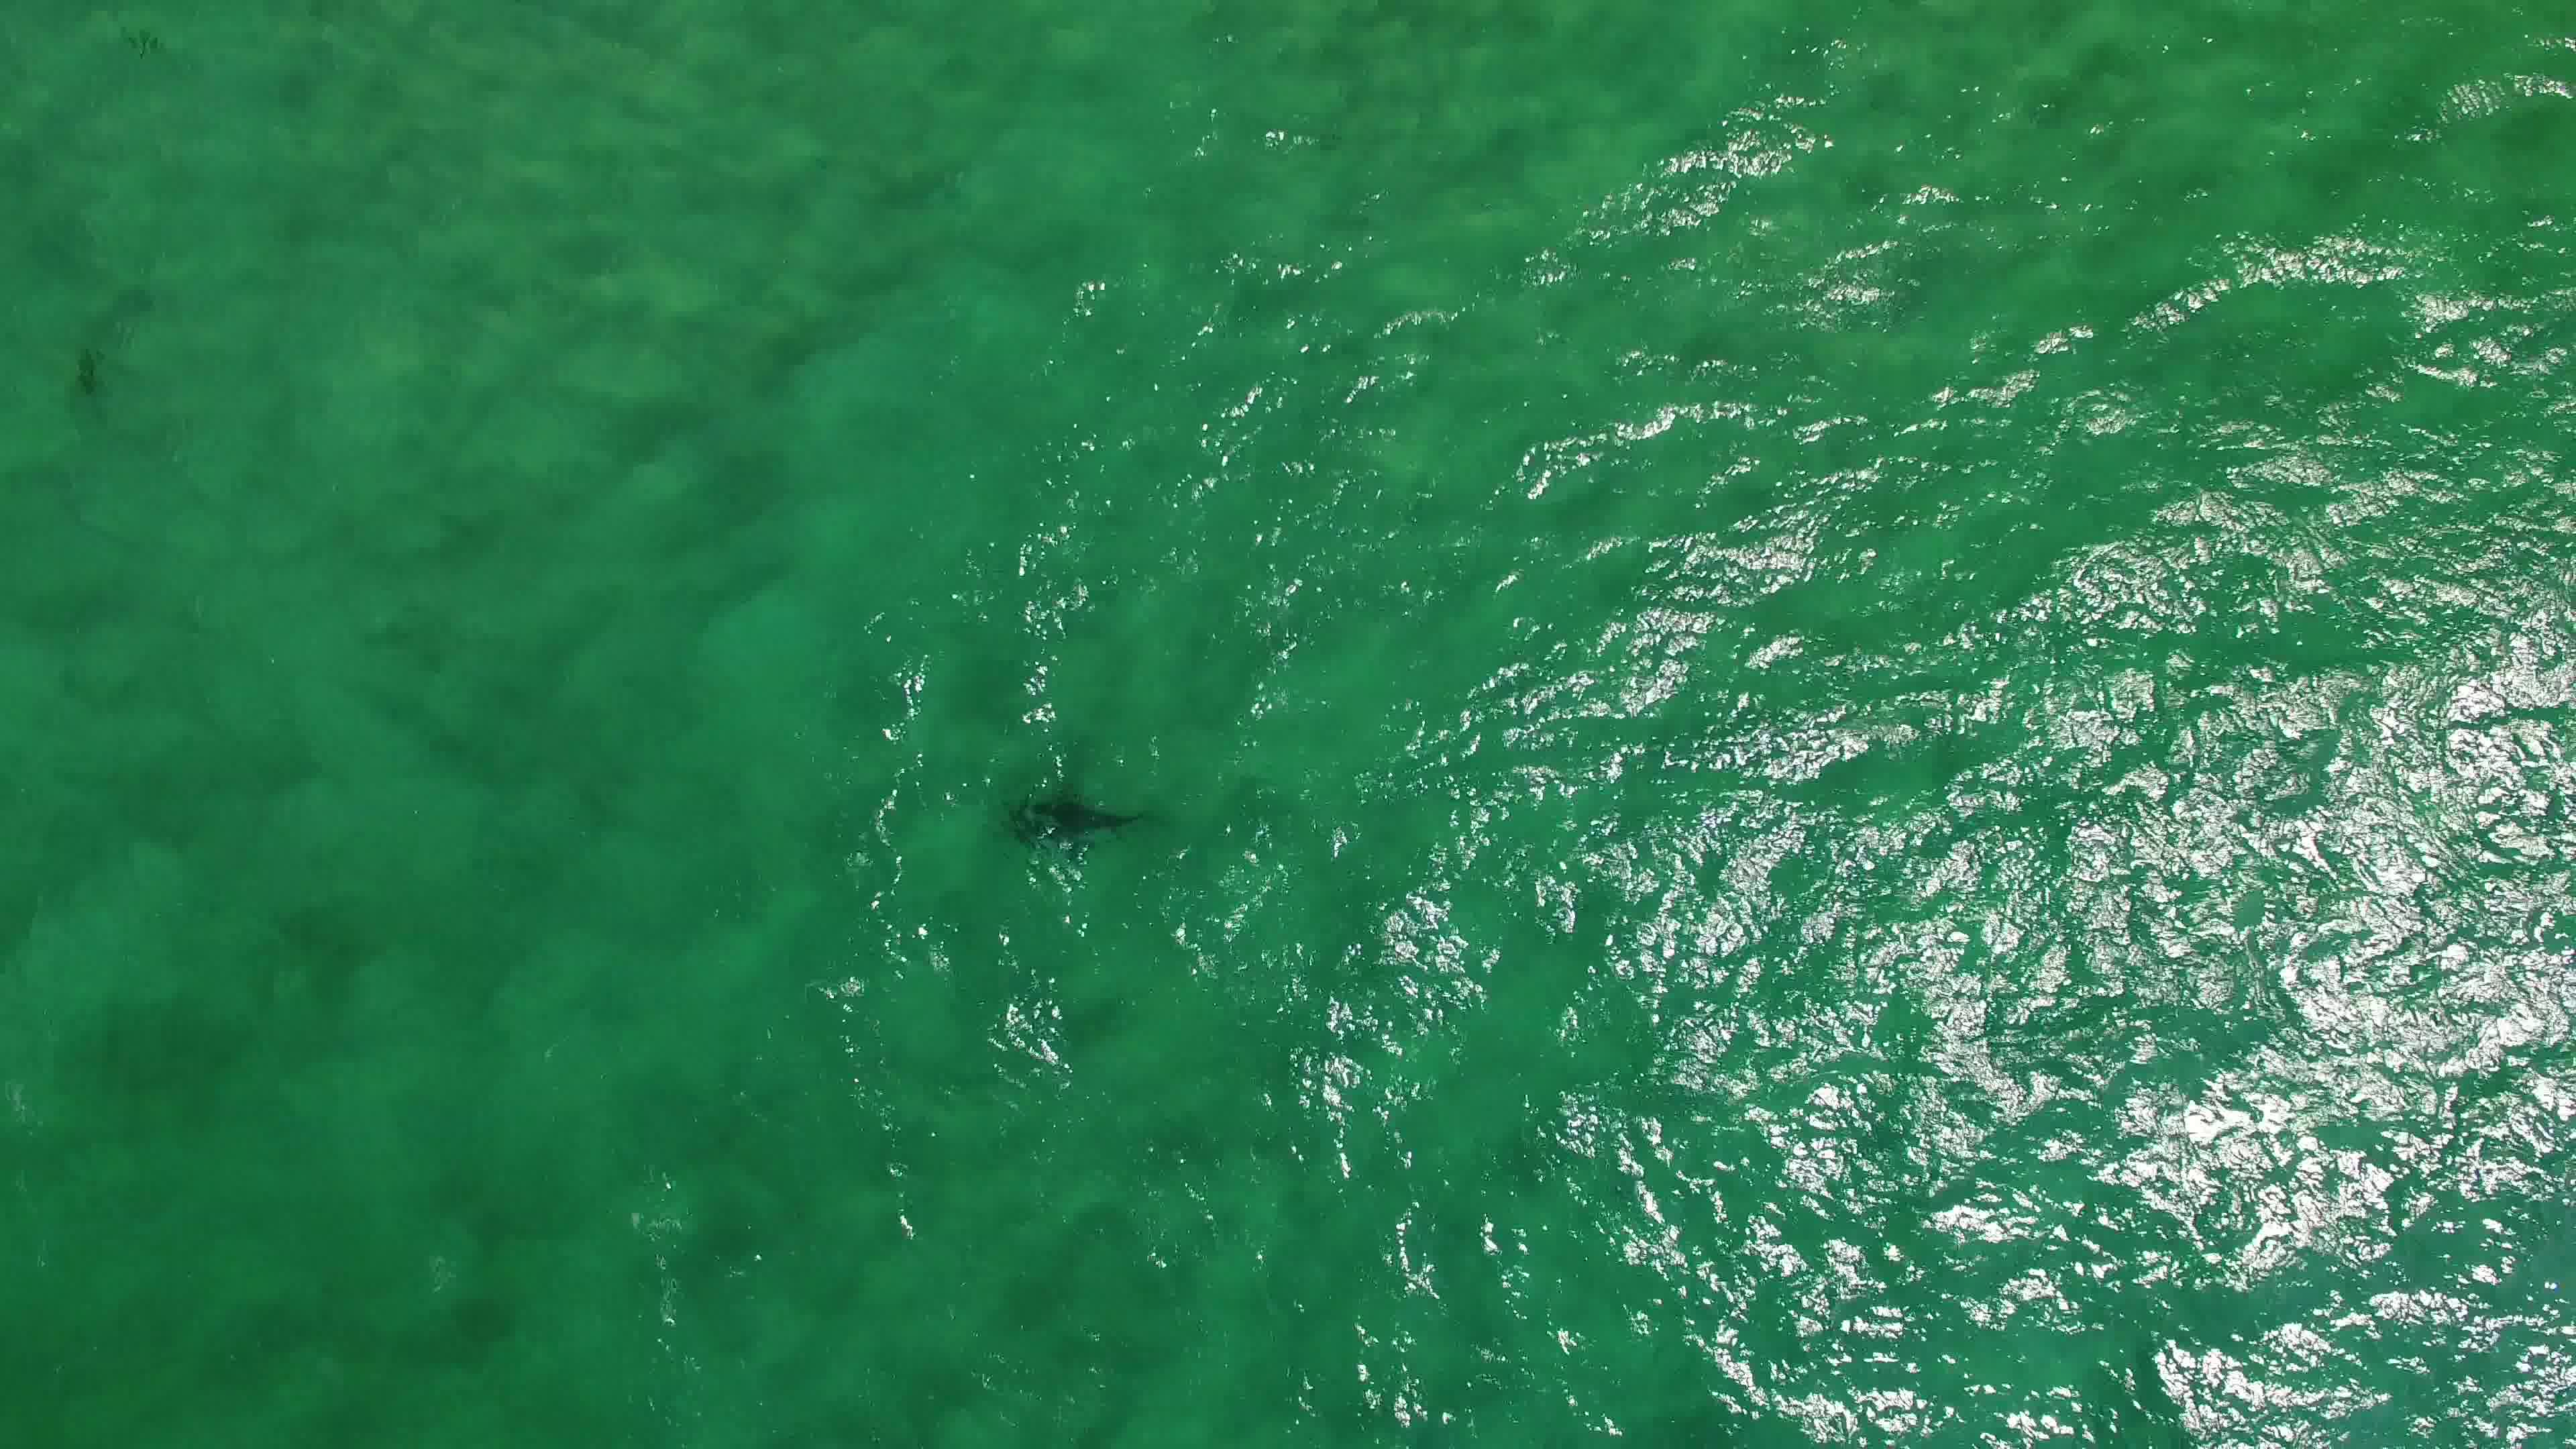shark: (1001, 780, 1154, 860)
